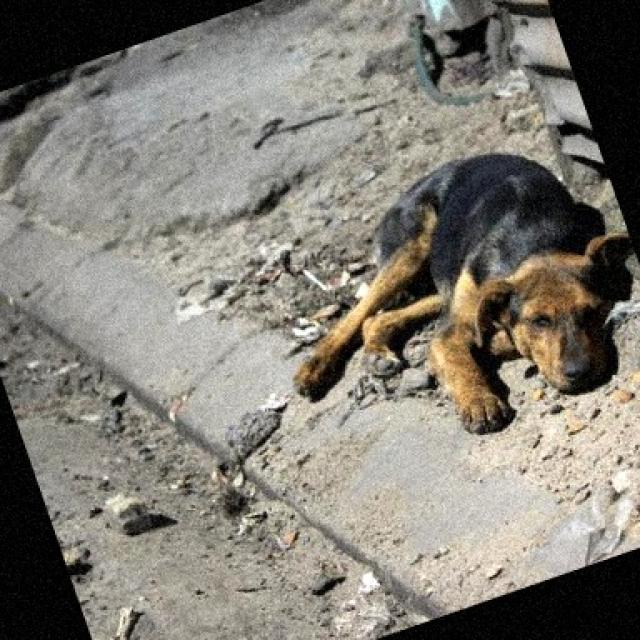sad: (287, 114, 640, 471)
